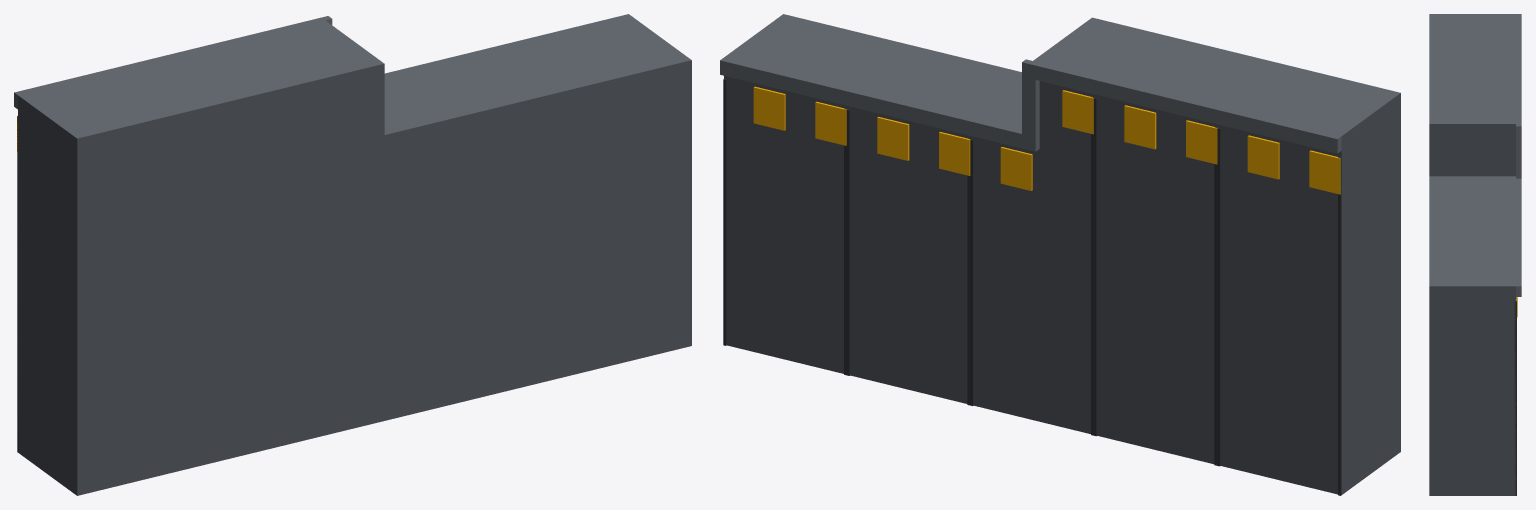
3 views of the same model, side by side, from view 1: azimuth 30°, elevation 25°; view 2: azimuth 150°, elevation 25°; view 3: azimuth 270°, elevation 25° (orthographic). The views are drawn at different scales.
Visible parts, largest first — view 1: k1wf; view 2: k1wf; view 3: k1wf.
Part boxes in pixels (x1,y1,x2,y2): k1wf: (14, 14, 691, 495); k1wf: (720, 14, 1400, 495); k1wf: (1429, 14, 1521, 495).
Bounding box in the file's own units: 9 × 5 × 1.6.
